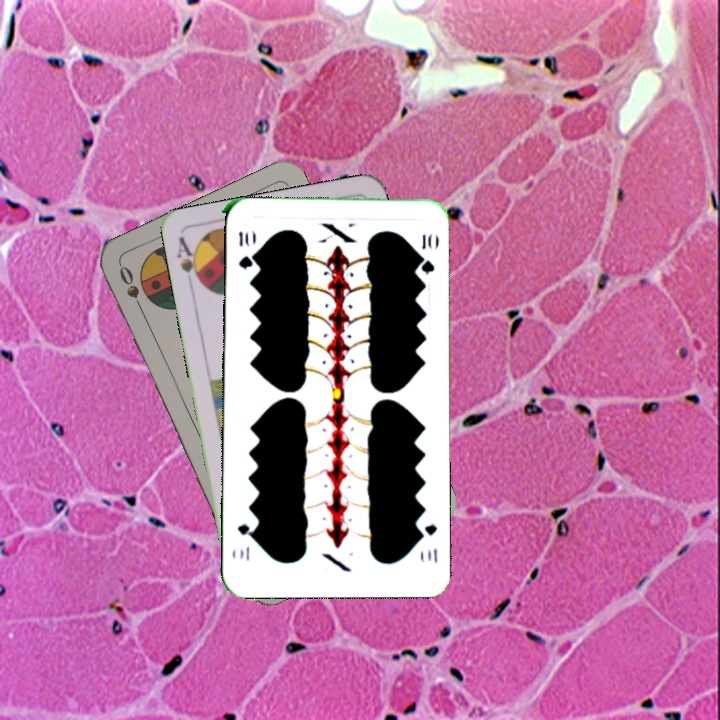G10: (415, 520, 440, 565), (235, 227, 255, 271)
SA: (173, 233, 206, 290)
SO: (115, 261, 148, 317)
